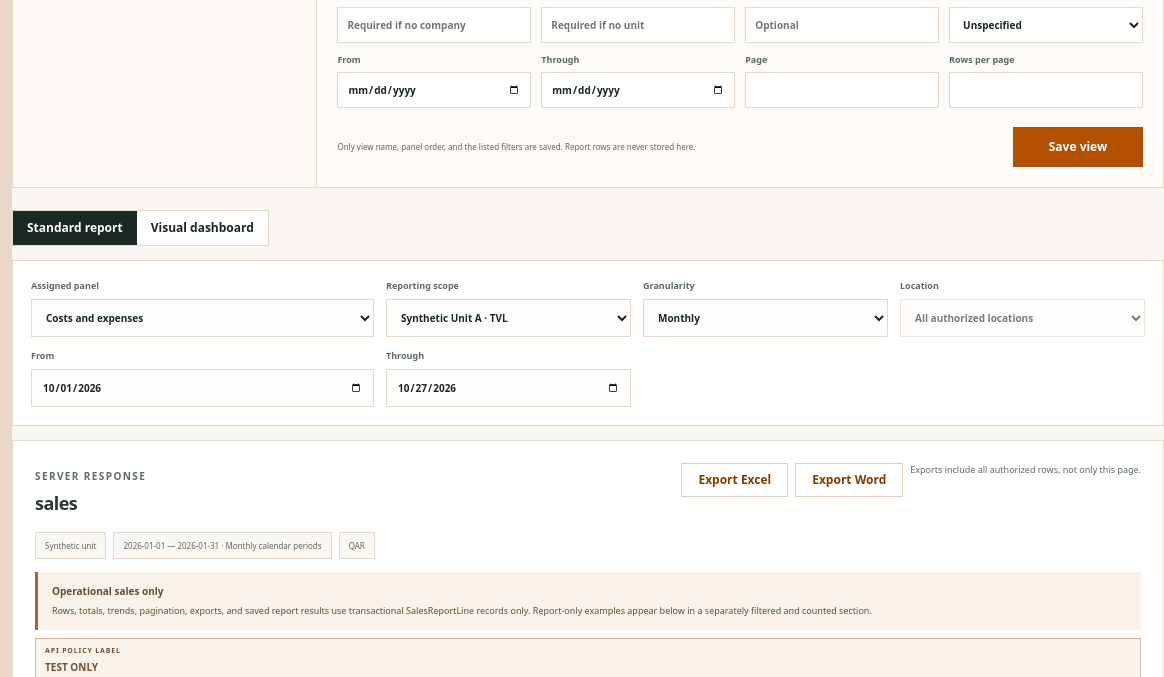
it: changing panel suppresses a request with the previous panel's scope
(page scrolled)
Select "Costs and expenses" in the dropdown labelled "Assigned panel" at (202,318), box top-left (31, 299), bottom-right (374, 337)
(page scrolled)
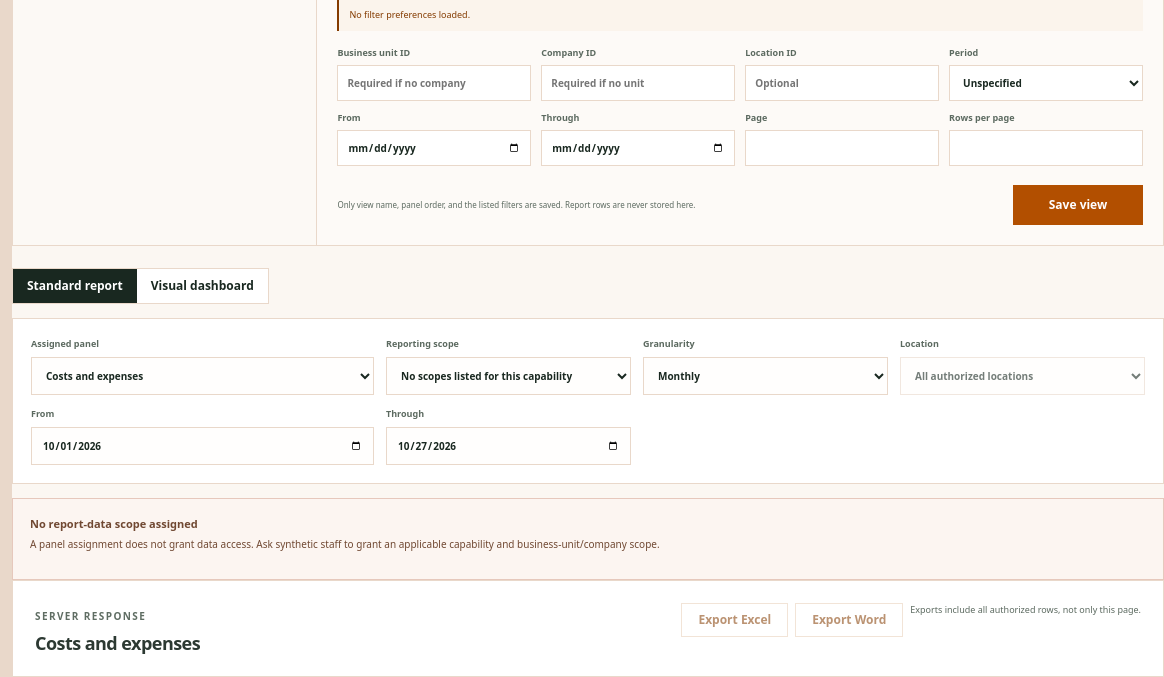
Now the text "No report-data scope assigned" is shown, box top-left (30, 516), bottom-right (198, 531)
